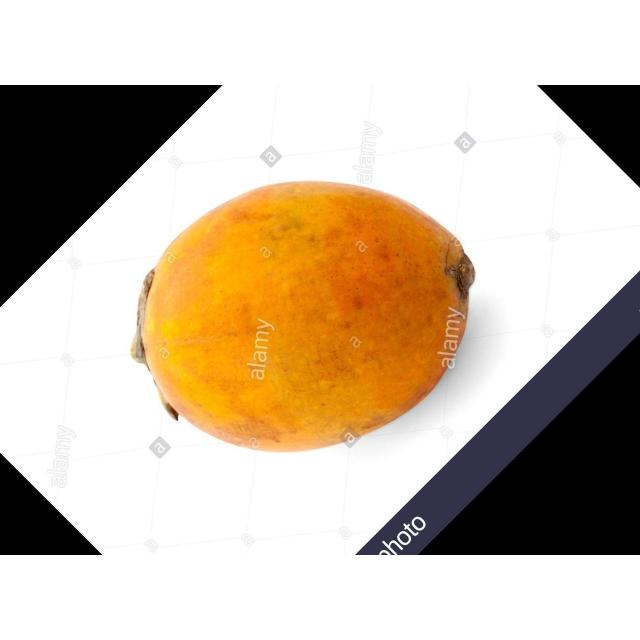good: (137, 181, 476, 455)
